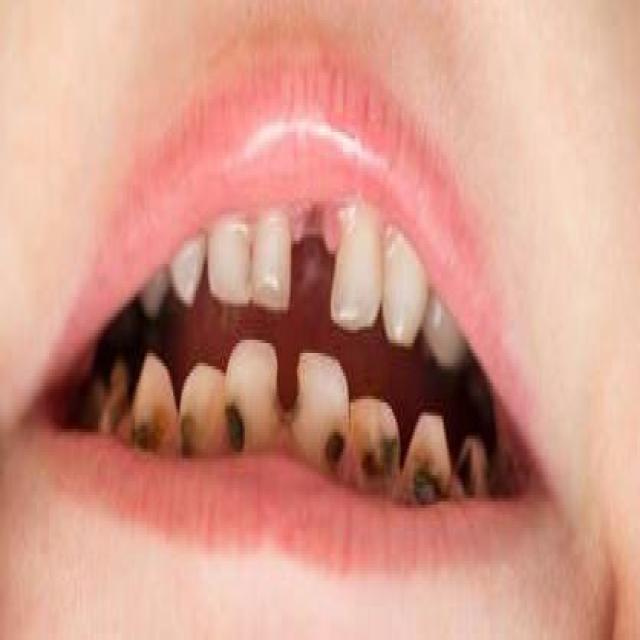caries: (265, 361, 306, 439), (132, 400, 176, 466), (410, 444, 449, 518), (364, 427, 402, 495), (221, 392, 250, 462), (181, 404, 207, 468), (454, 444, 480, 508), (325, 426, 349, 486)
